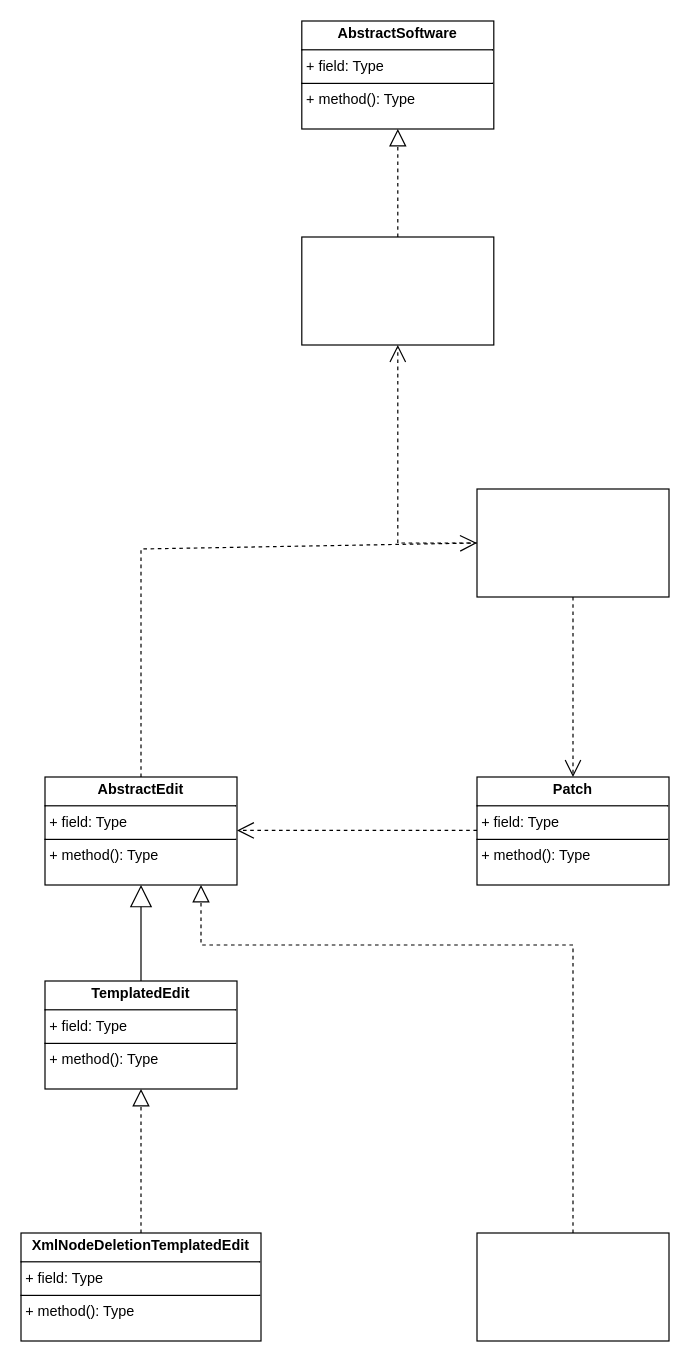
This 690x1362 diagram has some shape labels left out. Each missing label, with the centre of its shape:
"BasicSoftware + field: Type + method(): Type" goes at (x=397, y=290).
"LineDeletionEdit + field: Type + method(): Type" goes at (x=572, y=1286).
"Variant + field: Type + method(): Type" goes at (x=572, y=542).
